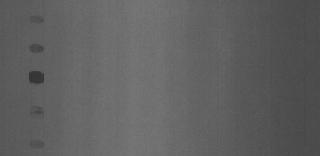oil spot: (28, 70, 46, 86), (26, 106, 46, 119), (28, 42, 46, 54), (28, 138, 44, 150), (28, 14, 44, 24)
